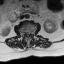CCS_normal: (27, 30, 28, 37)
LFS_stenosis: (30, 30, 32, 34)
LLS_normal: (28, 30, 30, 36)
RFS_severe_stenosis: (23, 30, 25, 35)
RLS_stenosis: (25, 31, 27, 36)
